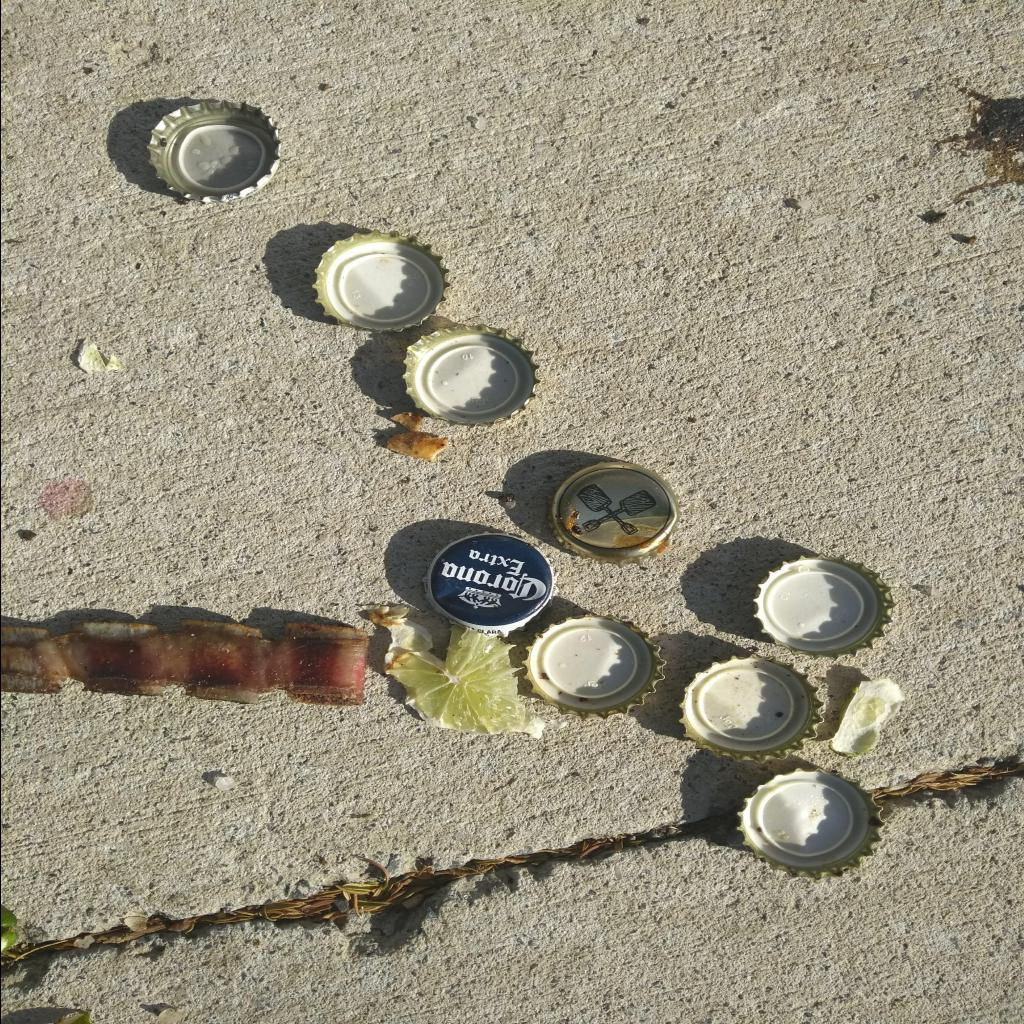Metal bottle cap: (734, 767, 886, 879), (678, 653, 822, 762), (752, 554, 896, 660), (522, 614, 664, 718), (402, 324, 542, 428), (545, 461, 679, 568), (312, 231, 450, 333), (421, 532, 556, 636), (146, 102, 280, 204)
